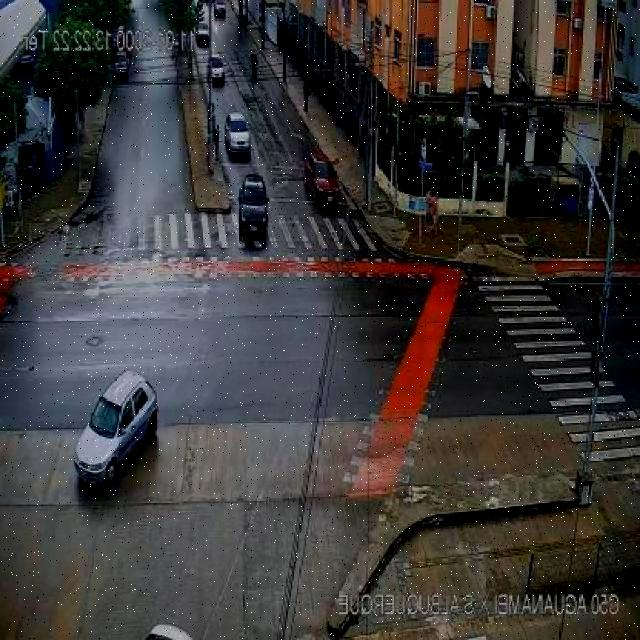Car: (73, 369, 158, 488), (238, 175, 270, 248), (306, 148, 342, 208), (223, 112, 250, 158), (112, 52, 132, 80), (208, 56, 225, 86), (613, 76, 638, 95), (196, 20, 210, 46), (214, 1, 226, 18)
